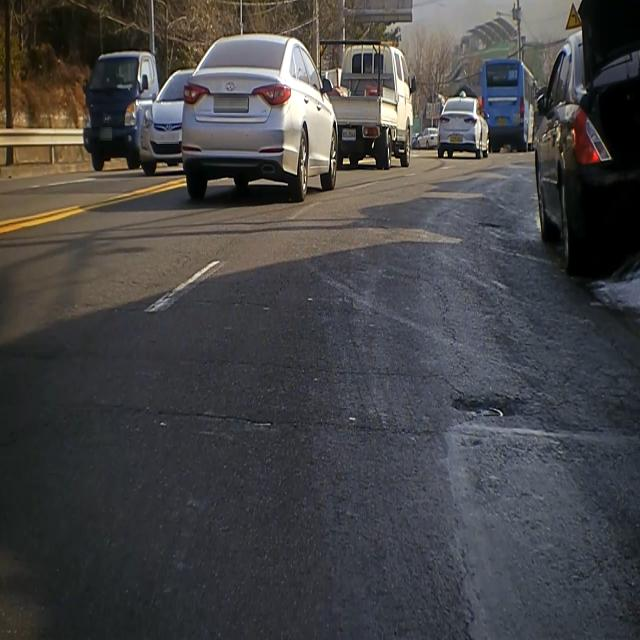Pothole: (443, 380, 538, 430)
